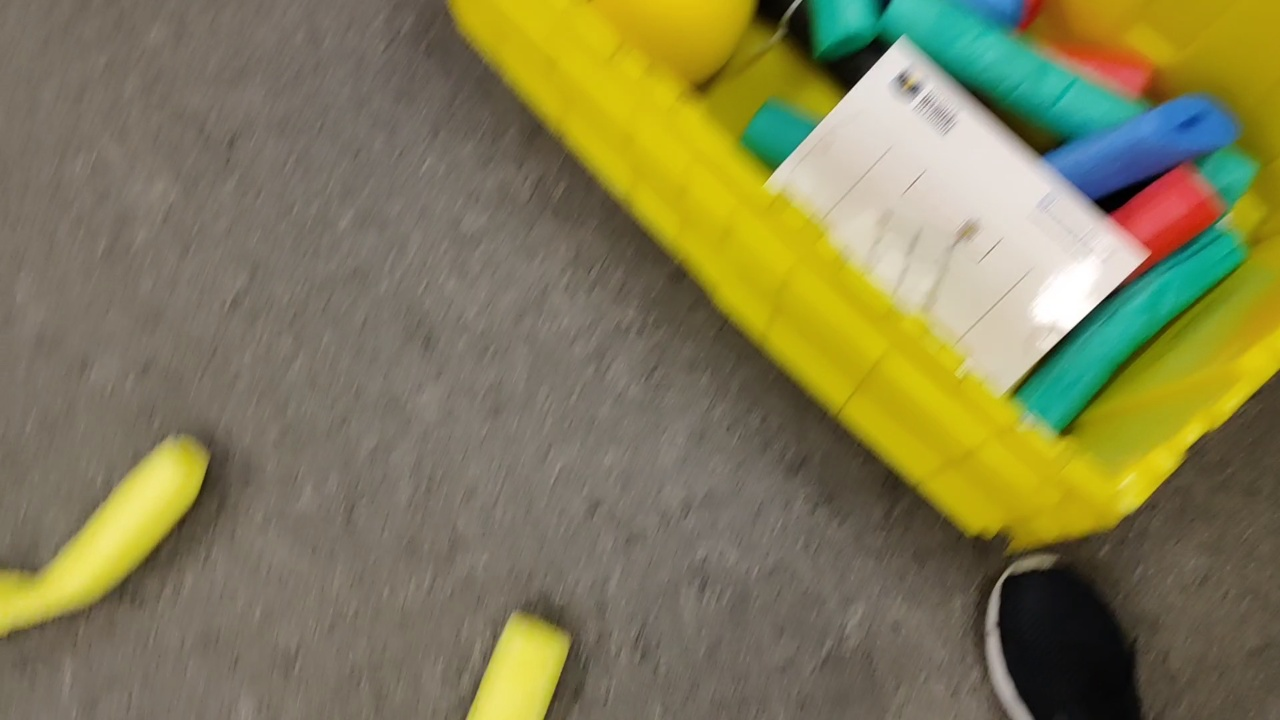Ball: (584, 1, 749, 75)
